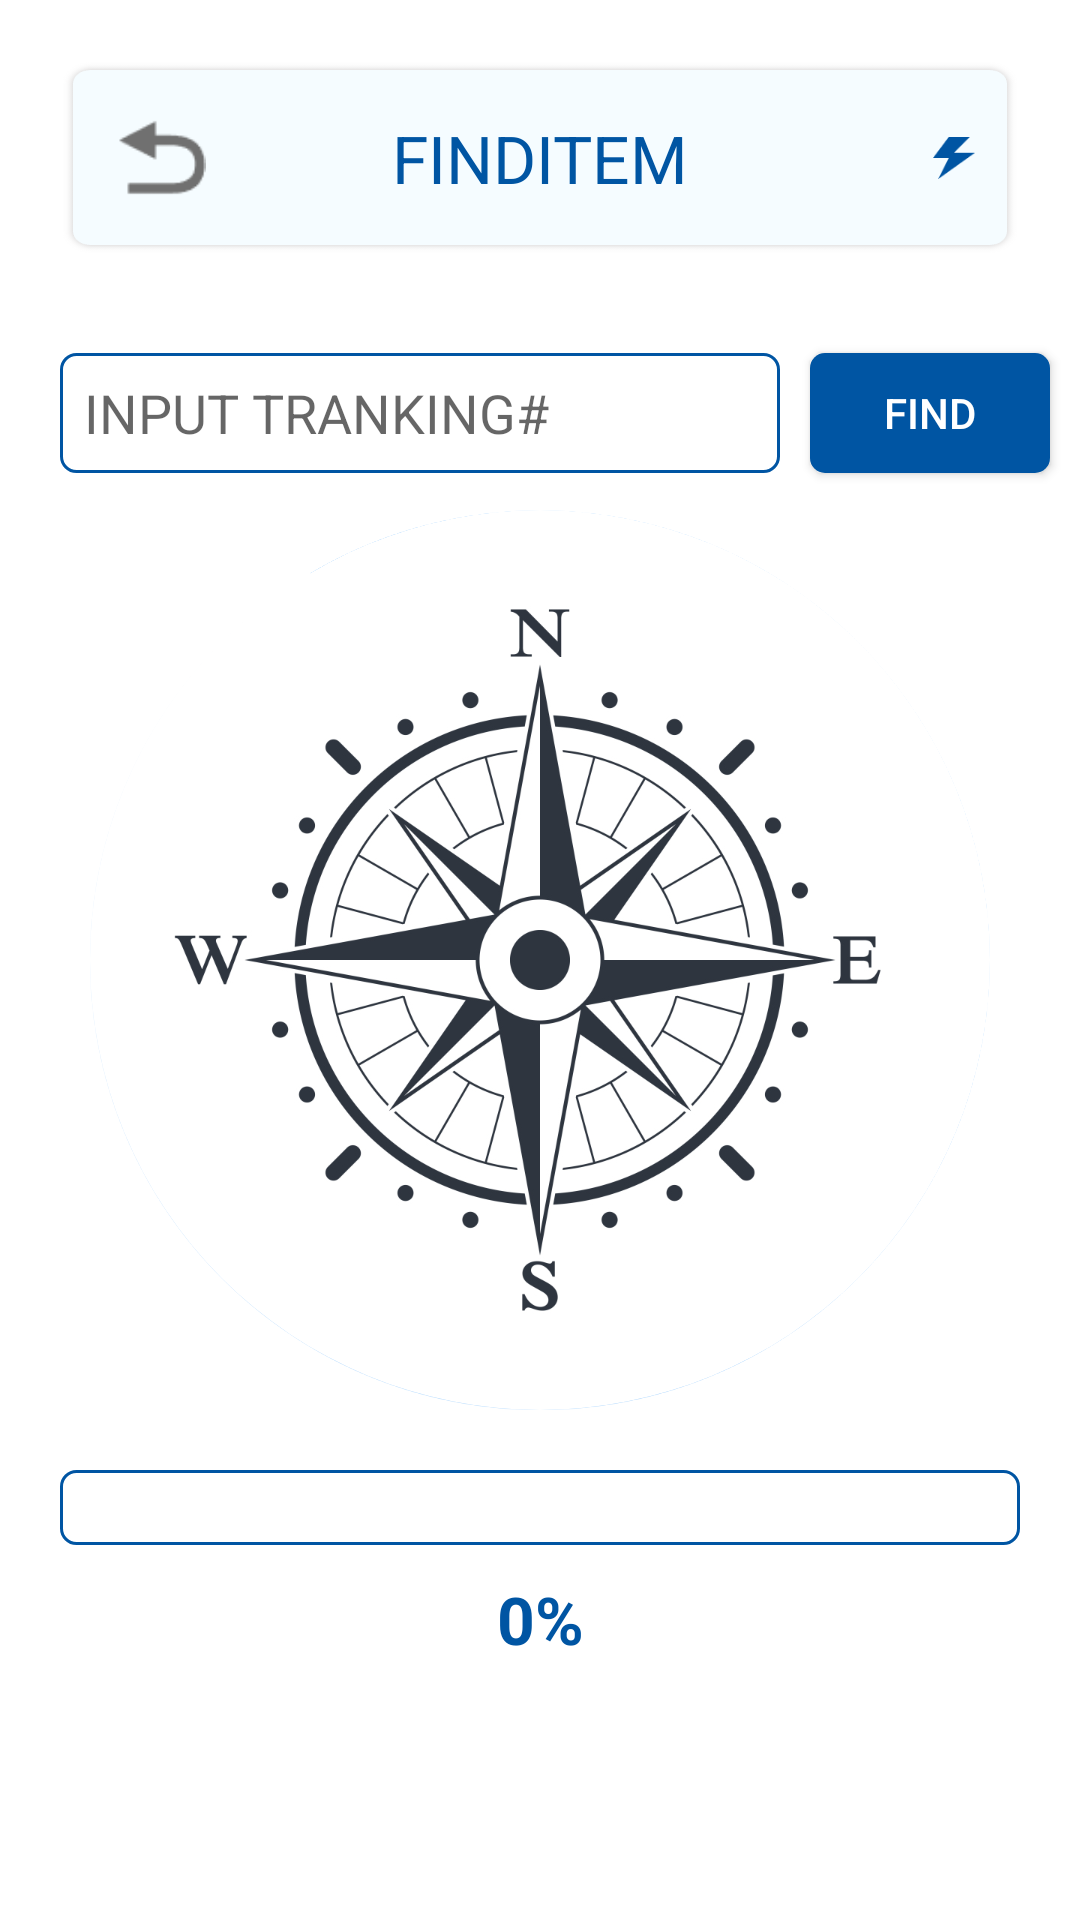

Icons on this 1080 × 1920 Android screen, each with the point to tap as [x,y]:
back: [151,157]
power: [954,158]
